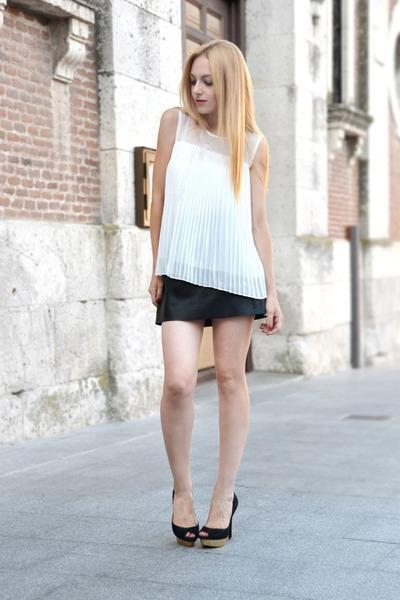short sleeve shirt: (152, 106, 267, 293)
skirt: (149, 275, 267, 329)
